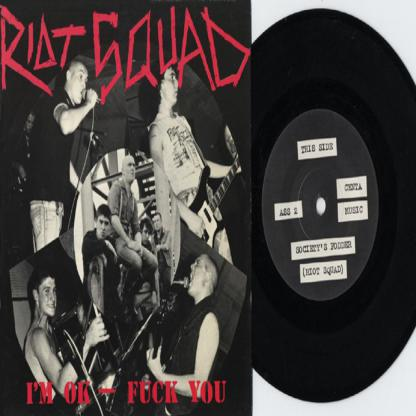face: (72, 66, 90, 104), (189, 257, 207, 293), (164, 67, 180, 102), (43, 280, 58, 315), (125, 157, 136, 181), (98, 216, 109, 239), (143, 225, 151, 245), (28, 116, 35, 131), (155, 216, 161, 231)
